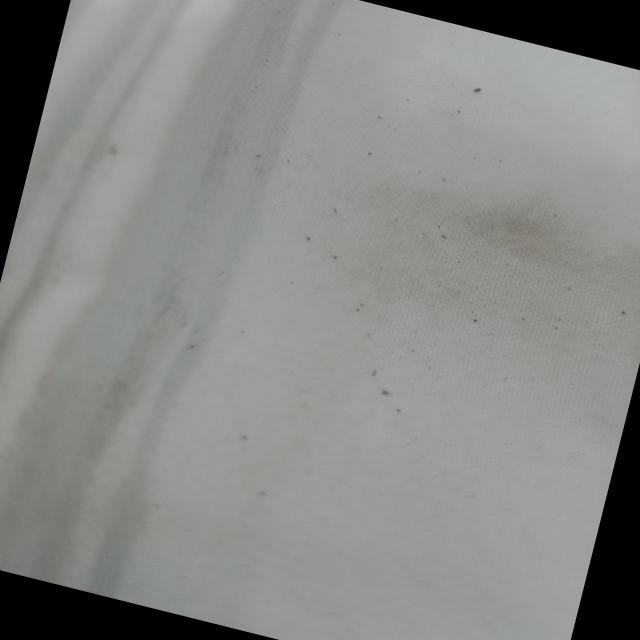stain: (335, 145, 640, 372)
